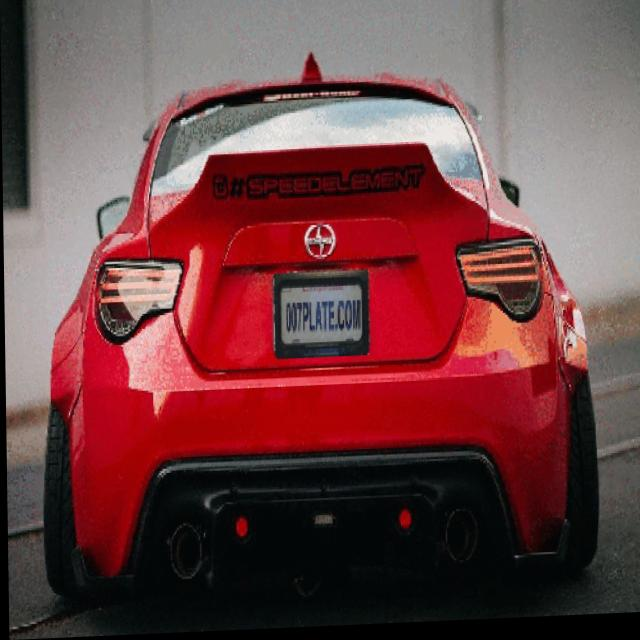licence: (270, 277, 363, 360)
